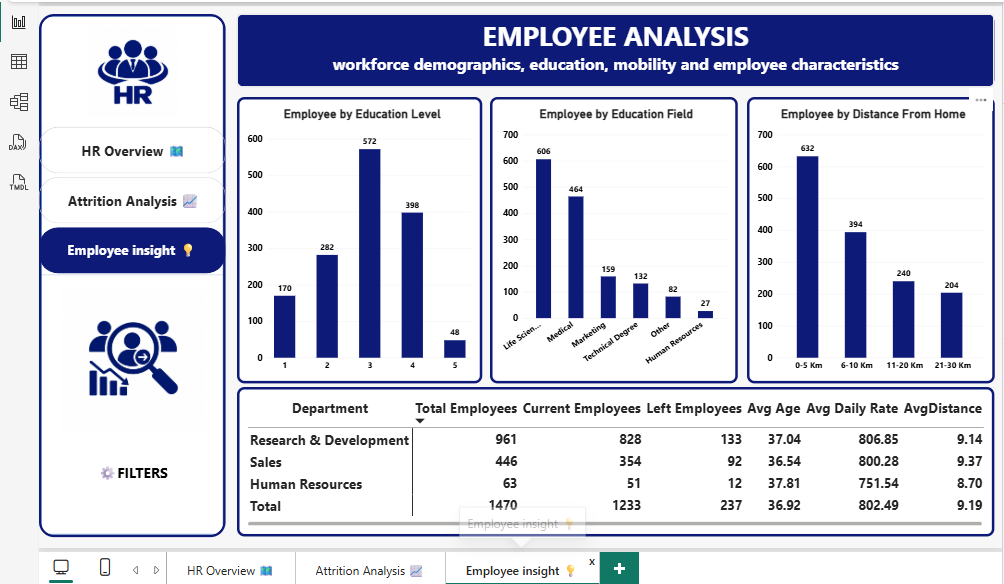

What the dashboard file says about the page in this screenshot:
{"tool":"powerbi","page":{"name":"Employee insight 💡","canvas":[1920,1080],"ordinal":2},"visuals":[{"type":"group","id":"g1","title":"Group 5","box":[0,15.4,372.5,1042.5],"z":0,"group":"g6"},{"type":"shape","box":[0,15.4,372.5,1042.5],"z":0,"group":"g3"},{"type":"group","id":"g2","title":"Group 1","box":[0,15.4,372.5,1042.5],"z":0,"group":"g1"},{"type":"group","id":"g3","title":"Group 3","box":[0,15.4,372.5,1042.5],"z":0,"group":"g4"},{"type":"group","id":"g4","title":"Group 2","box":[0,15.4,372.5,1042.5],"z":0,"group":"g2"},{"type":"columnChart","title":"Employee by Education Level","fields":{"Category":["hr_db hr_clean.Education"],"Y":["CountNonNull(hr_db hr_clean.Employee_id)"]},"box":[394.5,180.7,489.3,570.9],"z":0},{"type":"image","box":[22.8,39.3,330.7,178.7],"z":1000,"group":"g1"},{"type":"columnChart","title":"Employee by Education Field","fields":{"Category":["hr_db hr_clean.Education_Field"],"Y":["CountNonNull(hr_db hr_clean.Employee_id)"]},"box":[899.3,180.7,493.7,570.9],"z":1000},{"type":"pageNavigator","box":[0,240.6,372.5,294],"z":1000,"group":"g3"},{"type":"image","box":[22,559.9,330.6,289.5],"z":2000,"group":"g1"},{"type":"pivotTable","title":"Employee by Education Level","fields":{"Rows":["hr_db hr_clean.Department"],"Values":["CountNonNull(hr_db hr_clean.Employee_id)","hr_db hr_clean.Stayed Employed","hr_db hr_clean.Employees Left","Avg(hr_db hr_clean.Age)","Avg(hr_db hr_clean.Daily_Rate)","Avg(hr_db hr_clean.Distance_From_Home)"]},"box":[394.5,760.4,1509.8,297.6],"z":2000},{"type":"columnChart","title":"Employee by Distance From Home","fields":{"Category":["hr_db hr_clean.Distance Group"],"Y":["CountNonNull(hr_db hr_clean.Employee_id)"]},"box":[1410.6,180.7,493.7,570.9],"z":3000},{"type":"textbox","box":[394.5,15.4,1509.8,145.5],"z":4000},{"type":"group","id":"g5","title":"Group 4","box":[0,15.4,372.5,1042.5],"z":5000},{"type":"group","id":"g6","title":"Navigation","box":[0,15.4,372.5,1042.5],"z":10000,"group":"g5"},{"type":"actionButton","title":"Open Filter","box":[22,868,330.6,122.1],"z":11000,"group":"g5"}]}

Visuals, with their boxes in screenshot pixels (x1, y1, x2, y2):
"Group 5" group: crop(37, 13, 222, 531)
shape: crop(37, 13, 222, 531)
"Group 1" group: crop(37, 13, 222, 531)
"Group 3" group: crop(37, 13, 222, 531)
"Group 2" group: crop(37, 13, 222, 531)
"Employee by Education Level" columnChart: crop(233, 95, 476, 379)
image: crop(48, 25, 212, 114)
"Employee by Education Field" columnChart: crop(484, 95, 729, 379)
pageNavigator: crop(37, 125, 222, 271)
image: crop(48, 284, 212, 428)
"Employee by Education Level" pivotTable: crop(233, 383, 984, 531)
"Employee by Distance From Home" columnChart: crop(738, 95, 984, 379)
textbox: crop(233, 13, 984, 85)
"Group 4" group: crop(37, 13, 222, 531)
"Navigation" group: crop(37, 13, 222, 531)
"Open Filter" actionButton: crop(48, 437, 212, 498)
